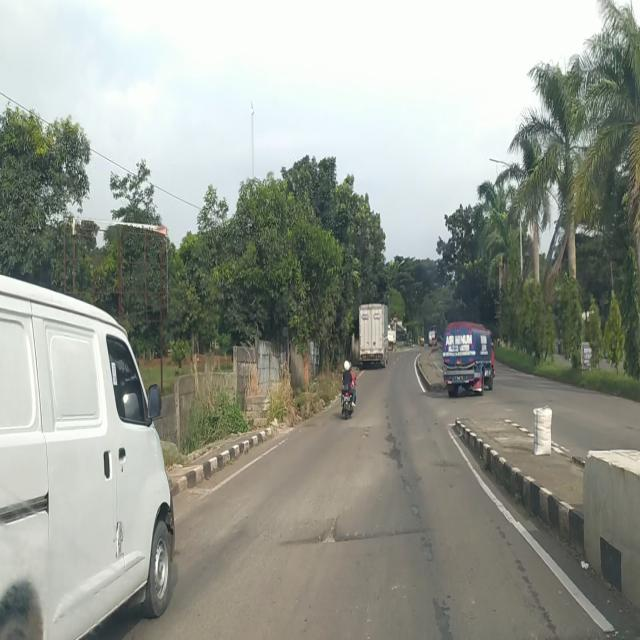Sewer Cover: (277, 528, 415, 547)
